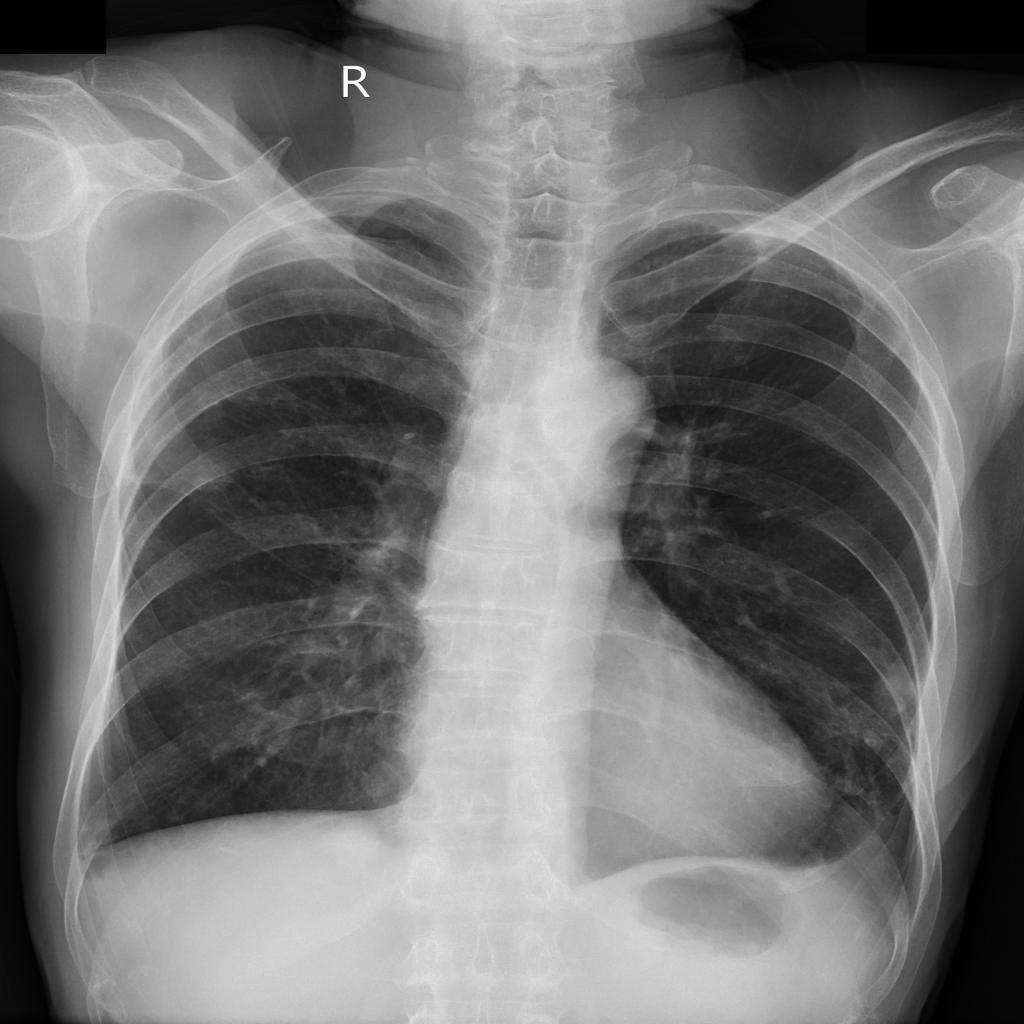Nodule: (358, 762, 402, 800), (356, 207, 390, 236)
